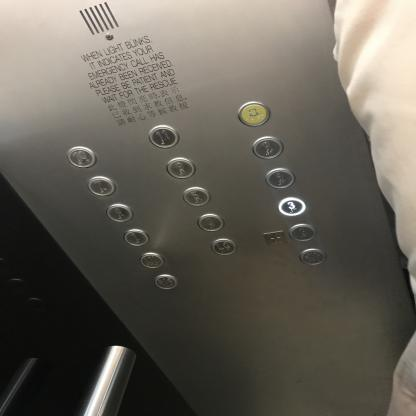1: (123, 229, 149, 246)
10: (65, 146, 97, 168)
11: (147, 124, 180, 149)
2: (196, 213, 224, 232)
3: (277, 196, 306, 216)
4: (105, 203, 133, 222)
5: (182, 186, 210, 207)
6: (263, 167, 295, 188)
7: (86, 175, 116, 196)
8: (166, 157, 196, 179)
9: (250, 135, 284, 160)
G: (288, 222, 317, 242)
LG: (210, 238, 238, 256)
LG1: (138, 252, 163, 269)
alarm: (236, 100, 271, 127)
close: (153, 273, 178, 290)
open: (298, 247, 326, 266)
